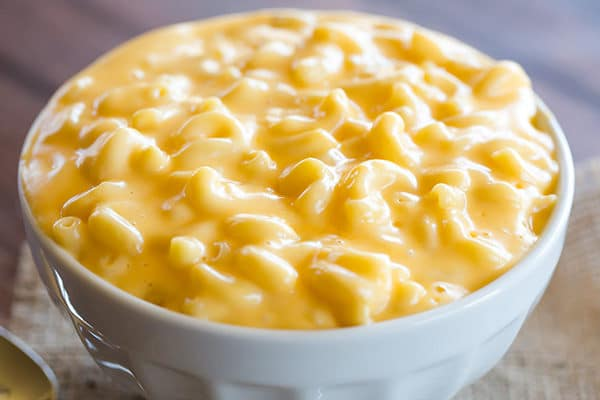macncheese: (86, 51, 512, 349)
